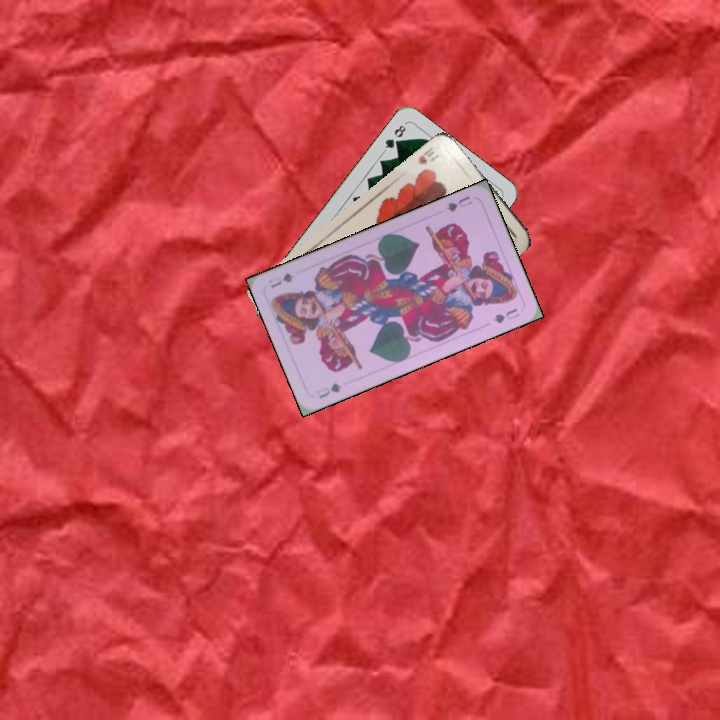G8: (380, 120, 409, 154)
GU: (442, 192, 474, 215), (312, 379, 345, 401)
H10: (414, 143, 441, 167)
